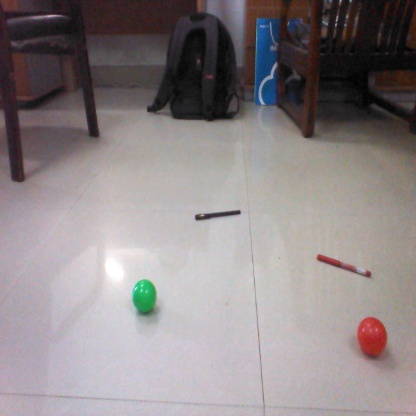ball: (353, 312, 390, 359), (131, 279, 159, 314)
pen: (318, 254, 374, 279), (193, 206, 243, 221)
